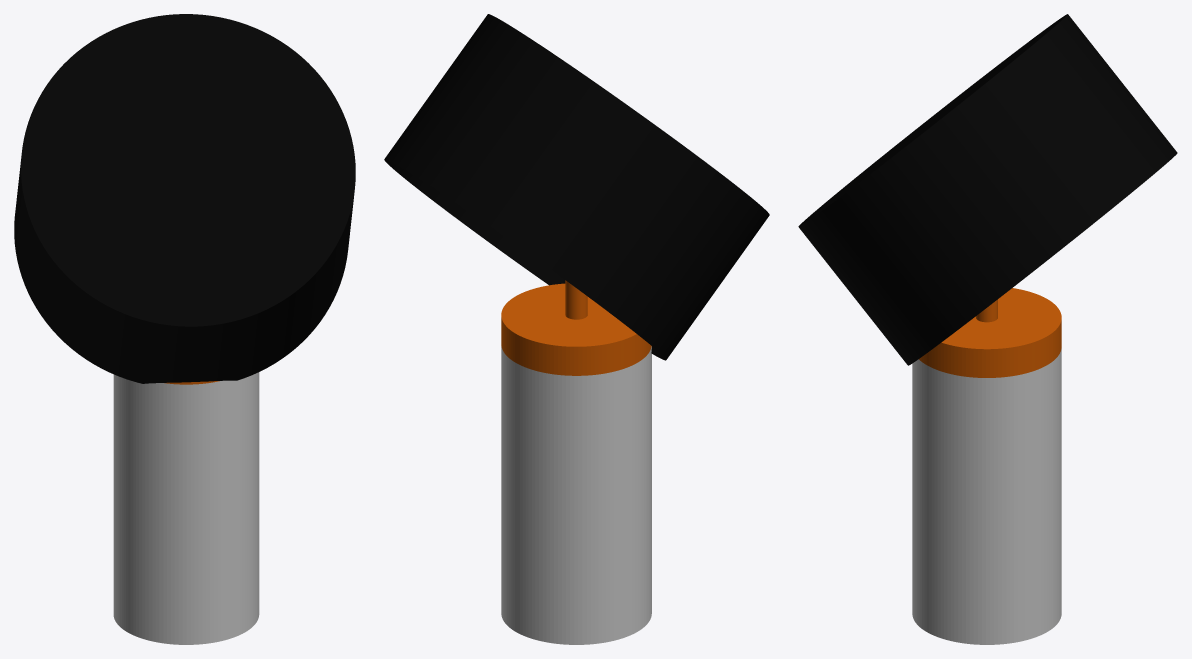
The model's file is lamp17.obj.
3 views of the same model, side by side, from view 1: azimuth 30°, elevation 25°; view 2: azimuth 150°, elevation 25°; view 3: azimuth 270°, elevation 25° (orthographic). The views are drawn at different scales.
Visible parts, largest first — view 1: Cylinder.002, Cylinder; view 2: Cylinder.002, Cylinder, Cylinder.001; view 3: Cylinder.002, Cylinder, Cylinder.001.
Part boxes in pixels (x1,y1,x2,y2): Cylinder.002: (14,14,355,383); Cylinder: (113,372,259,644); Cylinder.002: (384,14,769,360); Cylinder: (501,346,651,644); Cylinder.001: (501,280,651,375); Cylinder.002: (798,14,1177,365); Cylinder: (912,349,1061,644); Cylinder.001: (919,288,1061,377).
Size of what is drawn, in the model's own units: 5.11 by 8.7 by 5.08.
